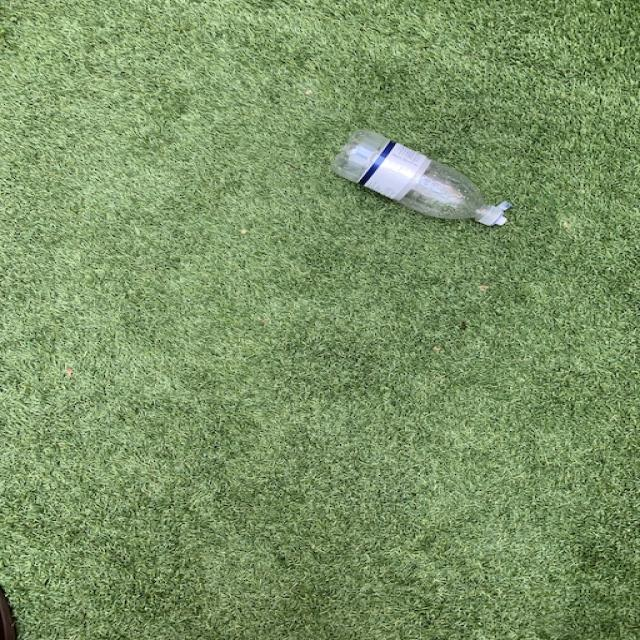litter: (328, 129, 514, 229)
